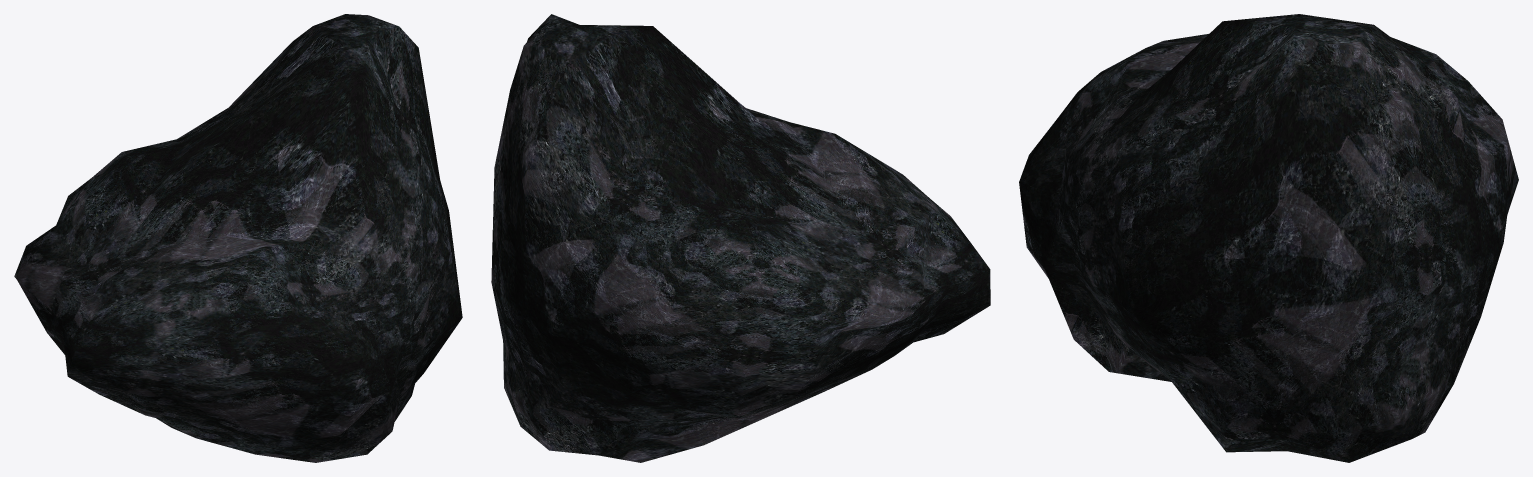
Rendered from asteroid_obsidian_small_s02_l0.fbx.
3 renders of one model, left to right at view 1: azimuth 30°, elevation 25°; view 2: azimuth 150°, elevation 25°; view 3: azimuth 270°, elevation 25°, orthographic. The views are drawn at different scales.
Visible parts, largest first — view 1: mesh_node; view 2: mesh_node; view 3: mesh_node.
Part boxes in pixels (box(x1,y1,x2,y2)): mesh_node: box(14, 14, 462, 462); mesh_node: box(491, 14, 990, 462); mesh_node: box(1019, 14, 1518, 462).
Size of the model in its own units: 28.65 by 25.92 by 25.97.
